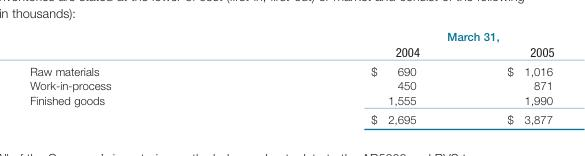table: (29, 29, 553, 125)
table column: (240, 29, 462, 125), (29, 29, 240, 125), (462, 29, 553, 125)
table column header: (29, 29, 553, 61)
table row: (29, 43, 553, 61), (29, 92, 553, 109), (29, 61, 553, 77), (29, 109, 553, 125), (29, 77, 553, 92), (29, 29, 553, 43)
table spanning cell: (240, 29, 553, 43)
